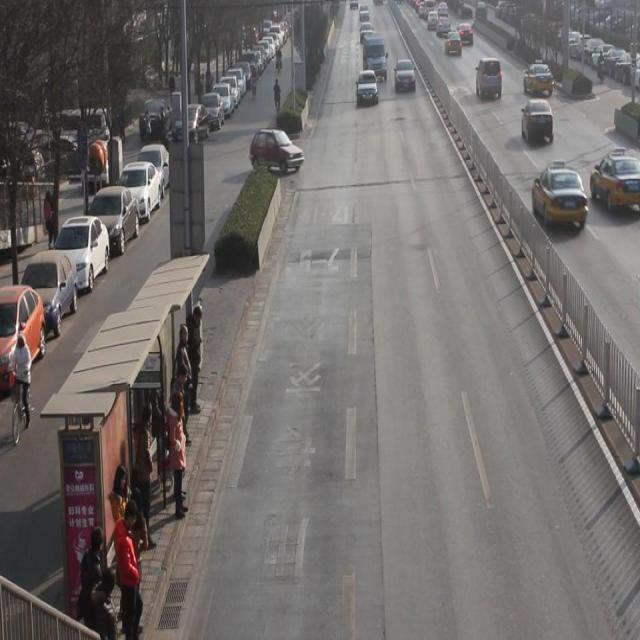bus: (363, 33, 389, 83)
car: (530, 158, 589, 232), (590, 147, 640, 213), (249, 126, 305, 175), (521, 98, 554, 148), (476, 56, 502, 100), (523, 59, 553, 95), (356, 71, 379, 106), (393, 58, 416, 93)
